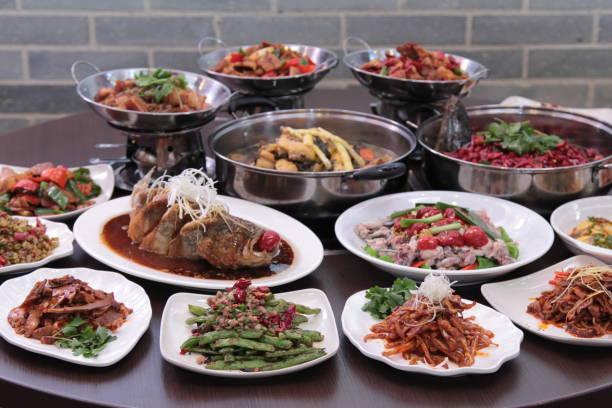Braised Crucian Carp: (207, 107, 413, 219), (74, 194, 314, 289), (416, 104, 611, 208), (335, 190, 552, 282), (339, 286, 522, 377), (159, 289, 337, 377), (2, 266, 152, 365), (72, 65, 232, 134), (343, 44, 486, 103), (195, 42, 339, 99)
